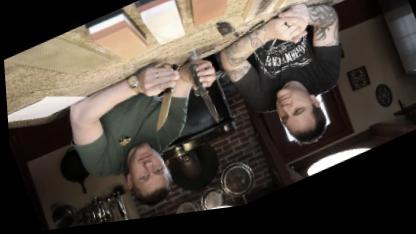knife: (134, 74, 194, 140), (186, 74, 232, 138)
